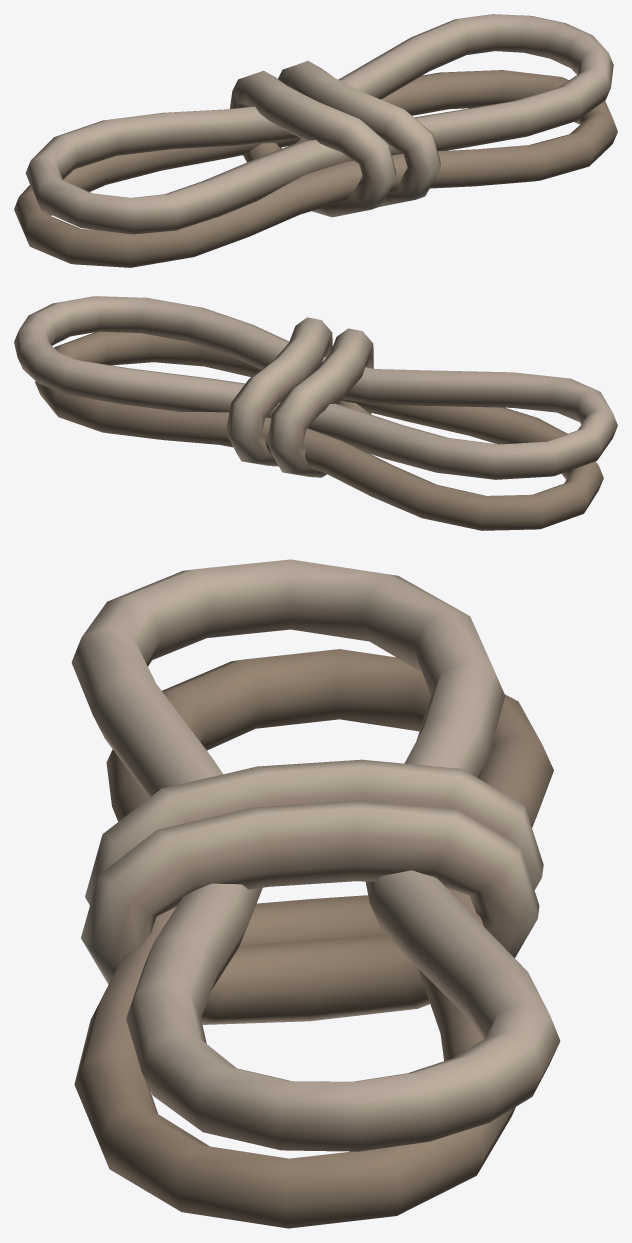
Rendered from rope_bundle.glb.
3 renders of one model, top to bottom at view 1: azimuth 30°, elevation 25°; view 2: azimuth 150°, elevation 25°; view 3: azimuth 270°, elevation 25°, orthographic. The views are drawn at different scales.
Visible parts, largest first — view 1: rope_bundle_A; view 2: rope_bundle_A; view 3: rope_bundle_A.
Part boxes in pixels (bbox=[...]): rope_bundle_A: bbox=[14, 14, 617, 267]; rope_bundle_A: bbox=[14, 296, 617, 530]; rope_bundle_A: bbox=[71, 559, 560, 1228].
Size of the model in its own units: 1.39 by 0.2519 by 0.5269.
1 material, 1 textured.
